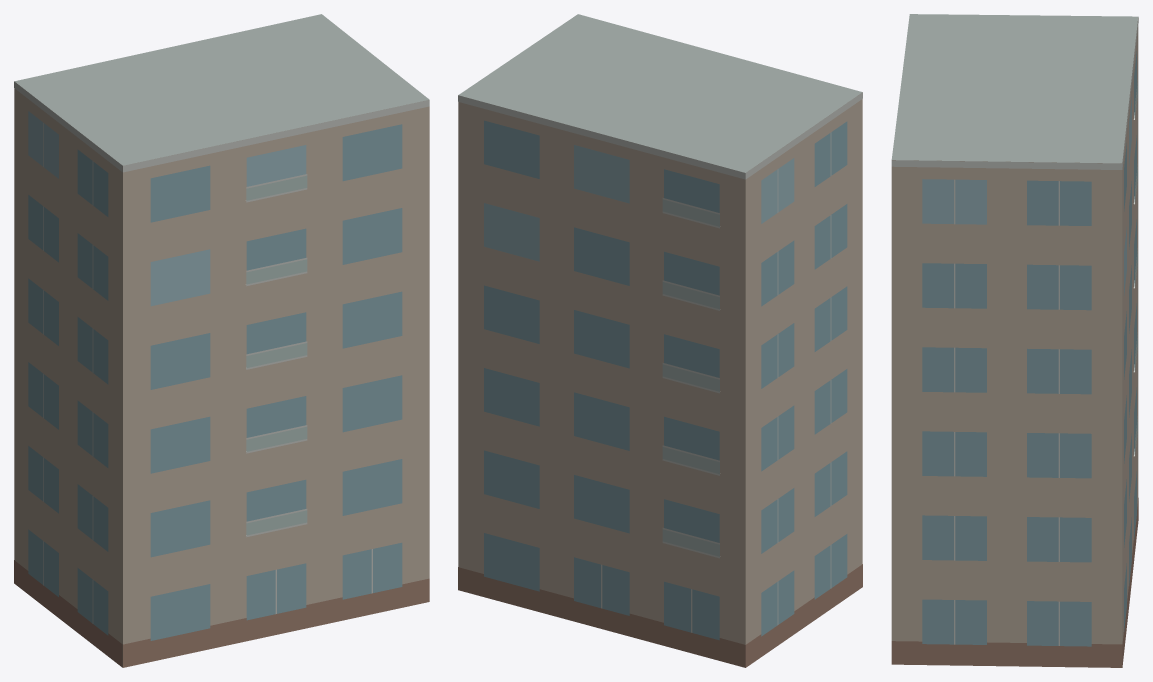
File: survey-upis-32656660.glb
3 views of the same model, side by side, from view 1: azimuth 30°, elevation 25°; view 2: azimuth 150°, elevation 25°; view 3: azimuth 270°, elevation 25° (orthographic).
Parts seen in each view (by area): view 1: survey-upis-32656660.tmp; view 2: survey-upis-32656660.tmp; view 3: survey-upis-32656660.tmp.
Boxes of the visible parts, x1,y1,x2,y2 form: survey-upis-32656660.tmp: [14, 14, 429, 667]; survey-upis-32656660.tmp: [458, 14, 862, 667]; survey-upis-32656660.tmp: [891, 14, 1138, 667].
Size of the model in its own units: 11.63 by 18.3 by 8.12.
